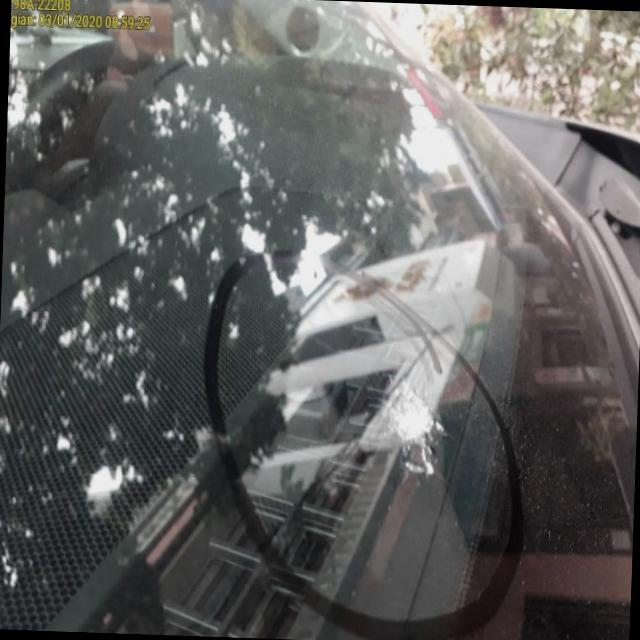Fissure: (360, 362, 445, 492)
